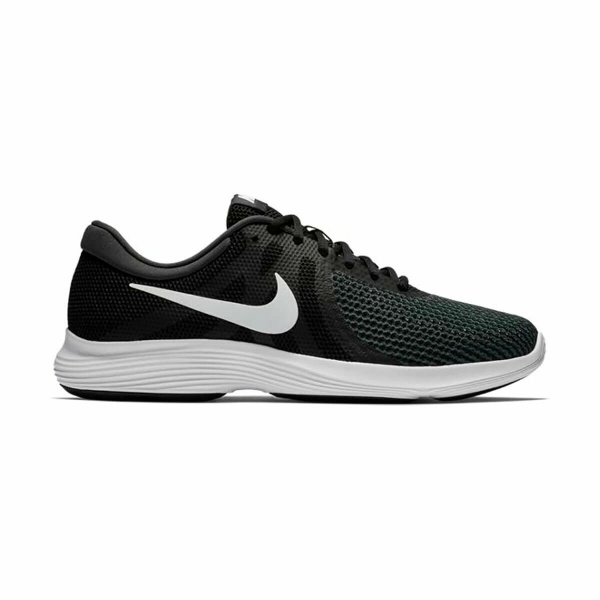nike: (120, 267, 306, 339)
